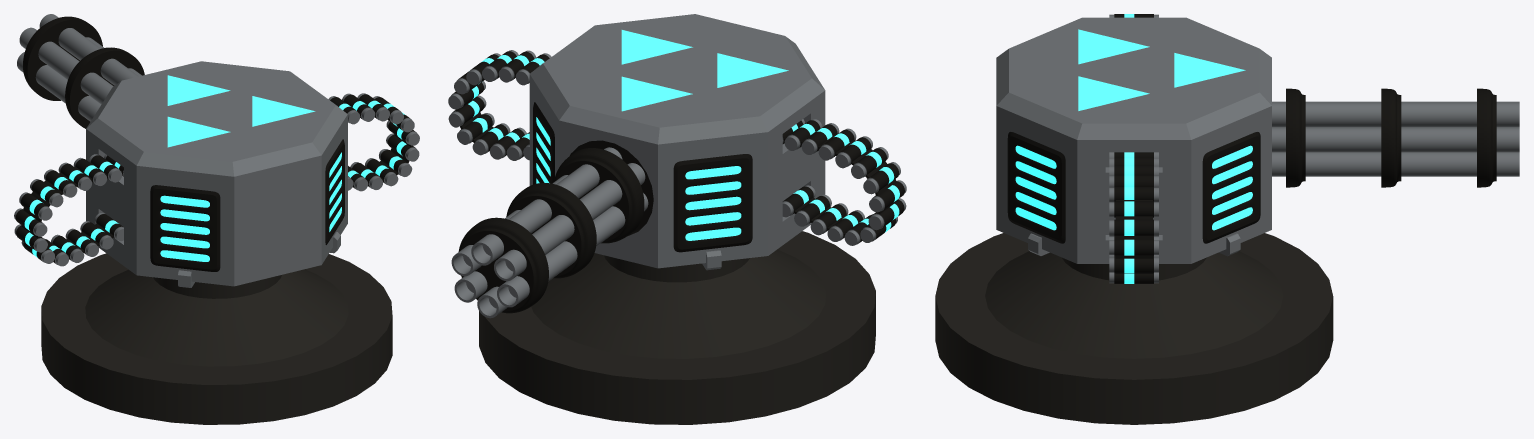
Rendered from gunner_DPM.fbx.
3 views of the same model, side by side, from view 1: azimuth 30°, elevation 25°; view 2: azimuth 150°, elevation 25°; view 3: azimuth 270°, elevation 25° (orthographic). The views are drawn at different scales.
Visible parts, largest first — view 1: Circle, Circle.001, Cylinder, vents, barrels, Cylinder.001, Circle.002, Plane, Cube.001, Cube; view 2: Circle, Circle.001, Cylinder, barrels, Cylinder.001, vents, Circle.002, Plane, Cube.001; view 3: Circle, Circle.001, barrels, vents, Cylinder, Cylinder.001, Circle.002, Plane, Cube, Cube.001.
Part boxes in pixels (x1=…): Circle: x1=41, y1=253, x2=392, y2=424; Circle.001: x1=86, y1=61, x2=347, y2=286; Cylinder: x1=14, y1=93, x2=419, y2=266; vents: x1=150, y1=139, x2=344, y2=271; barrels: x1=17, y1=14, x2=141, y2=121; Cylinder.001: x1=23, y1=16, x2=144, y2=128; Circle.002: x1=167, y1=75, x2=315, y2=147; Plane: x1=160, y1=152, x2=341, y2=261; Cube.001: x1=21, y1=102, x2=412, y2=257; Cube: x1=178, y1=232, x2=340, y2=287; Circle: x1=479, y1=231, x2=875, y2=424; Circle.001: x1=529, y1=14, x2=825, y2=268; Cylinder: x1=448, y1=50, x2=906, y2=245; barrels: x1=451, y1=147, x2=648, y2=318; Cylinder.001: x1=458, y1=148, x2=644, y2=313; vents: x1=533, y1=102, x2=752, y2=252; Circle.002: x1=621, y1=30, x2=788, y2=111; Plane: x1=536, y1=117, x2=741, y2=240; Cube.001: x1=456, y1=60, x2=898, y2=235; Circle: x1=935, y1=233, x2=1333, y2=424; Circle.001: x1=996, y1=17, x2=1271, y2=263; barrels: x1=1272, y1=101, x2=1519, y2=176; vents: x1=1007, y1=132, x2=1260, y2=243; Cylinder: x1=1109, y1=14, x2=1158, y2=283; Cylinder.001: x1=1286, y1=88, x2=1496, y2=187; Circle.002: x1=1078, y1=29, x2=1245, y2=110; Plane: x1=1015, y1=145, x2=1252, y2=230; Cube: x1=1028, y1=233, x2=1240, y2=256; Cube.001: x1=1115, y1=200, x2=1152, y2=273.
Bounding box in the file's own units: 202 × 120 × 235.
